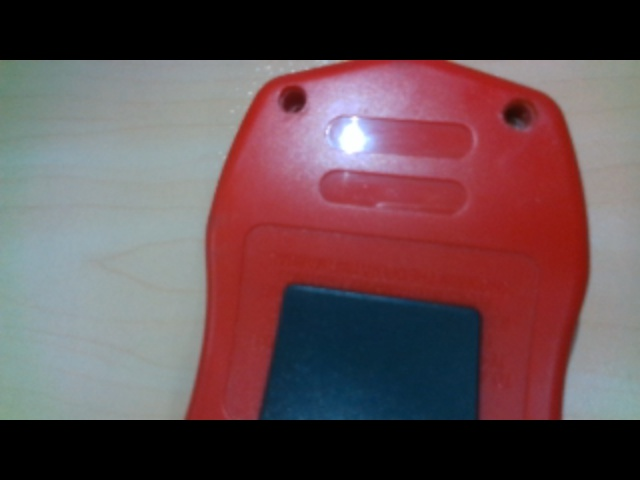Screw holes: (501, 94, 540, 133), (276, 82, 311, 116)
